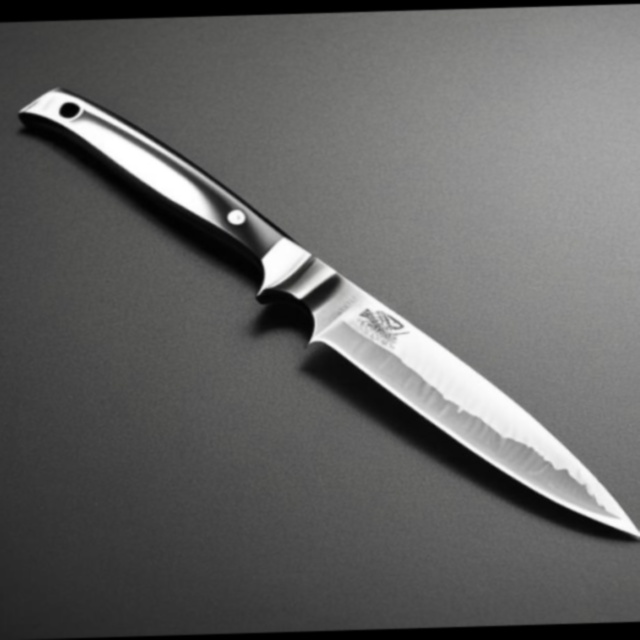Sharp-Object: (10, 63, 640, 559)
